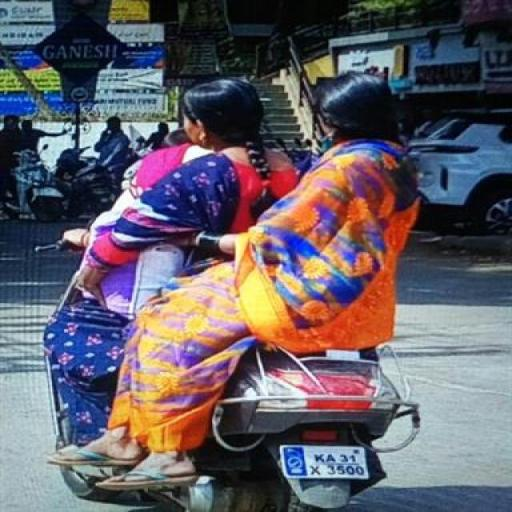tripple riding: (29, 65, 429, 354)
